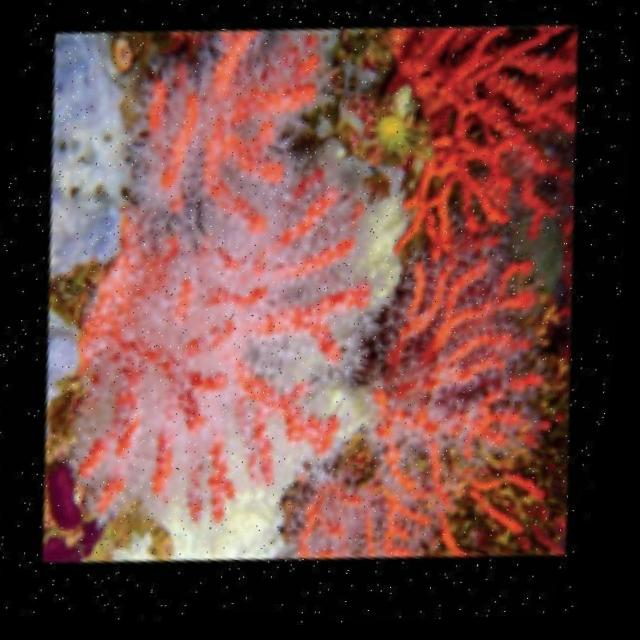Healthy Coral: (79, 22, 367, 505), (358, 255, 574, 558), (397, 28, 579, 273)
